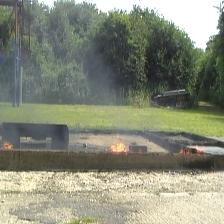fire: (109, 142, 128, 152)
